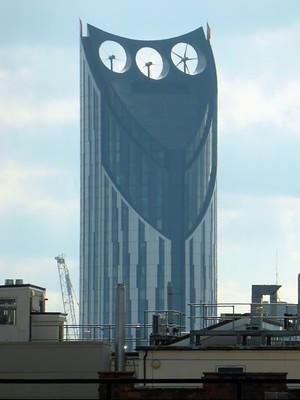building: (75, 17, 220, 348)
